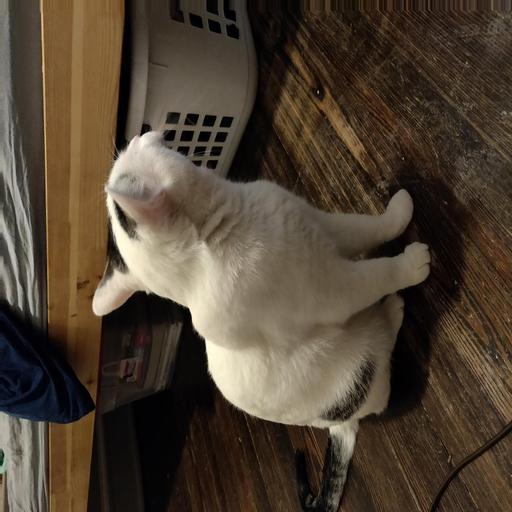cat: (97, 130, 373, 406)
